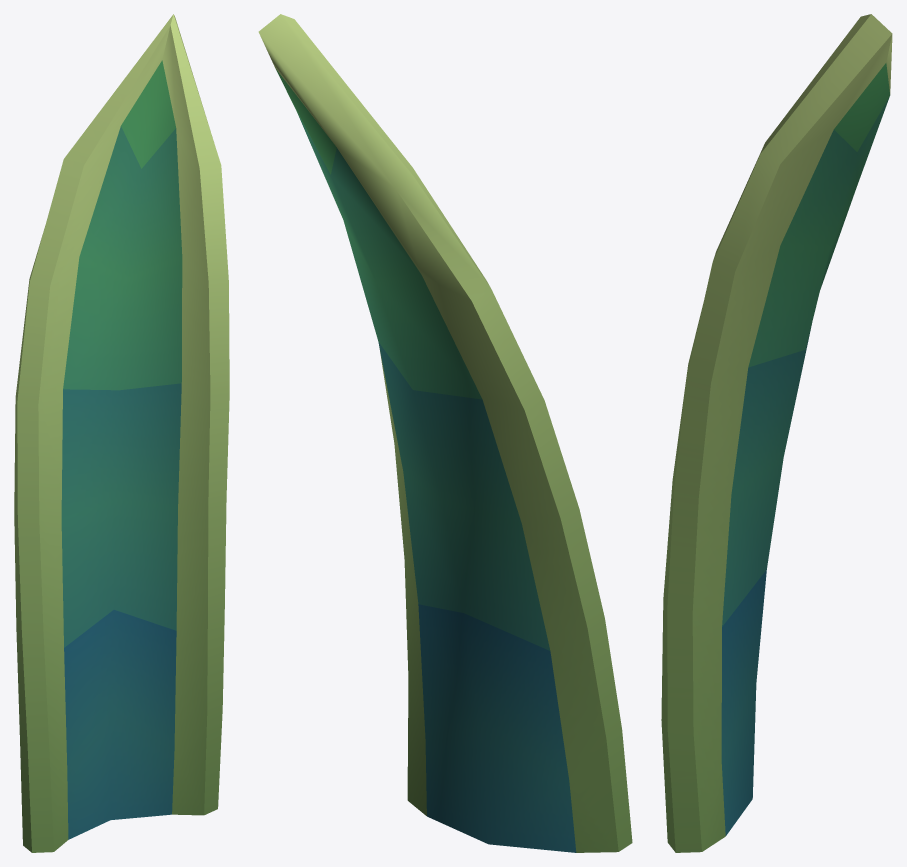
Rendered from house_plants_plants_sansevieria_leaf.glb.
The picture shows the model from 3 angles, left to right: view 1: azimuth 30°, elevation 25°; view 2: azimuth 150°, elevation 25°; view 3: azimuth 270°, elevation 25°; orthographic projection. The views are drawn at different scales.
Parts seen in each view (by area): view 1: sansevieria_leaf_large_C; view 2: sansevieria_leaf_large_C; view 3: sansevieria_leaf_large_C.
Part boxes in pixels (bbox=[...]): sansevieria_leaf_large_C: bbox=[14, 14, 229, 852]; sansevieria_leaf_large_C: bbox=[258, 14, 632, 852]; sansevieria_leaf_large_C: bbox=[661, 14, 892, 852].
Bounding box in the file's own units: 0.5603 × 1.66 × 0.4042.
Materials: 1 (1 with a texture image).
